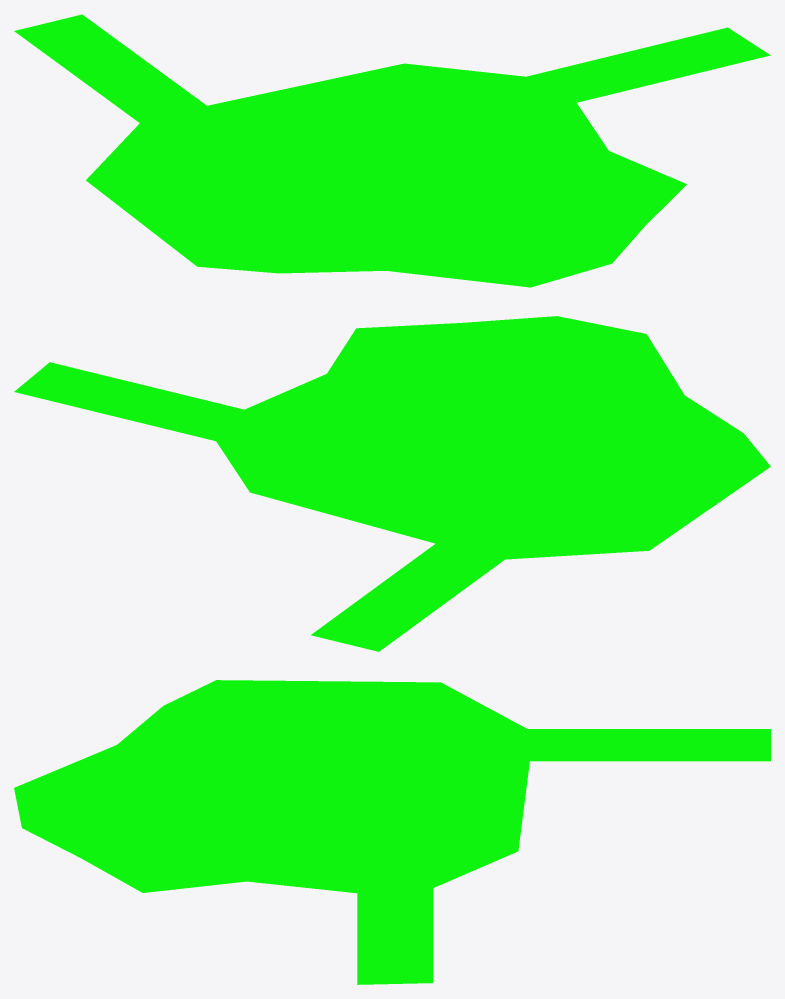
The model's file is s03b_lb1-floor.glb.
3 renders of one model, top to bottom at view 1: azimuth 30°, elevation 25°; view 2: azimuth 150°, elevation 25°; view 3: azimuth 270°, elevation 25°, orthographic. The views are drawn at different scales.
Visible parts, largest first — view 1: collision_floor-colonly; view 2: collision_floor-colonly; view 3: collision_floor-colonly.
Boxes of the visible parts, x1=… form: collision_floor-colonly: x1=14, y1=14, x2=770, y2=287; collision_floor-colonly: x1=14, y1=316, x2=770, y2=651; collision_floor-colonly: x1=14, y1=680, x2=770, y2=984.
Bounding box in the file's own units: 56.84 × 0 × 59.66.
